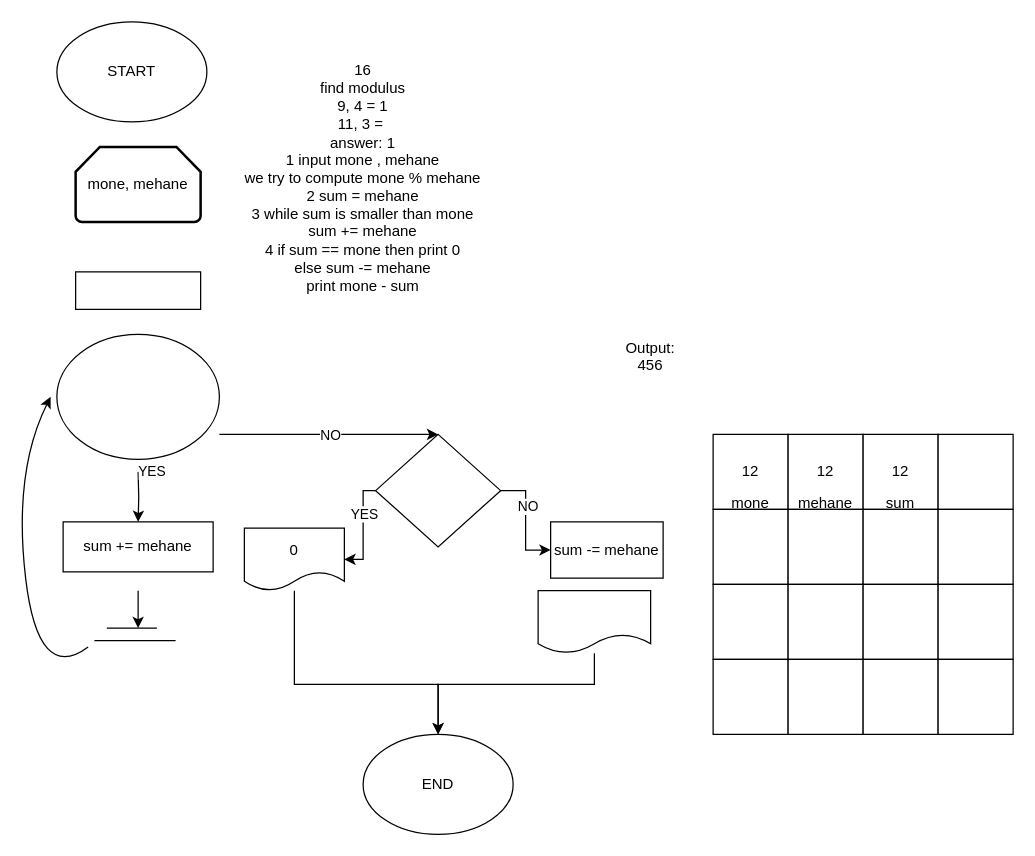
This 1035x856 diagram has some shape labels left out. The shapes that lost their labels are listed below. From the top down, each one's centre as x and y in pixels, then its label:
At (137,290): "sum = mehane".
At (137,396): "sum < mone".
At (437,490): "sum==mone".
At (594,621): "mone - sum".
